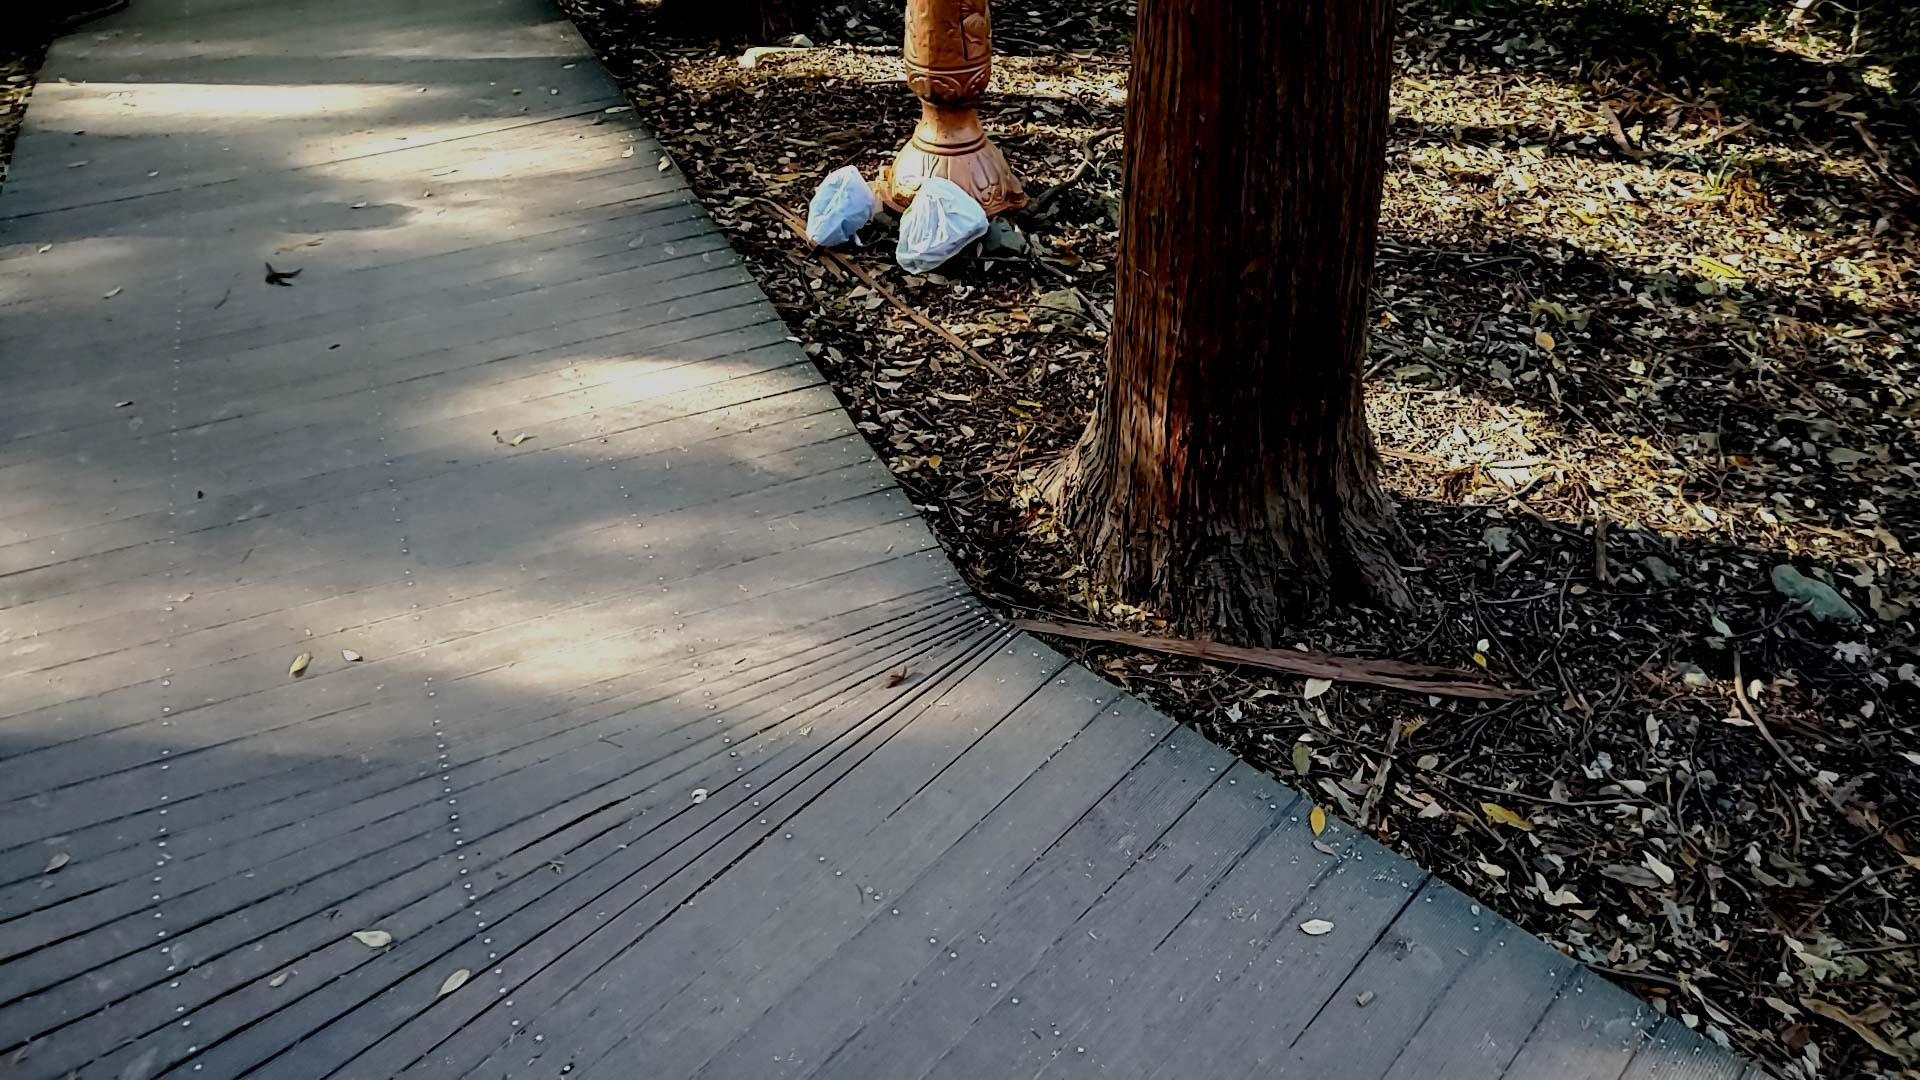white_bag: (893, 175, 992, 285), (800, 158, 887, 252)
